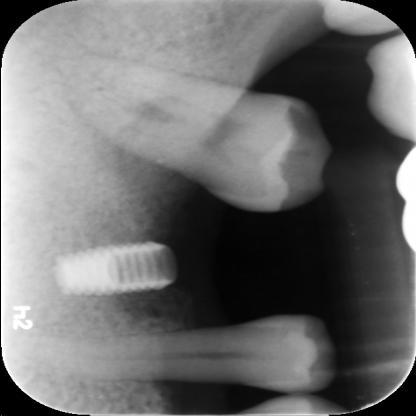Bicon: (50, 240, 174, 298)
